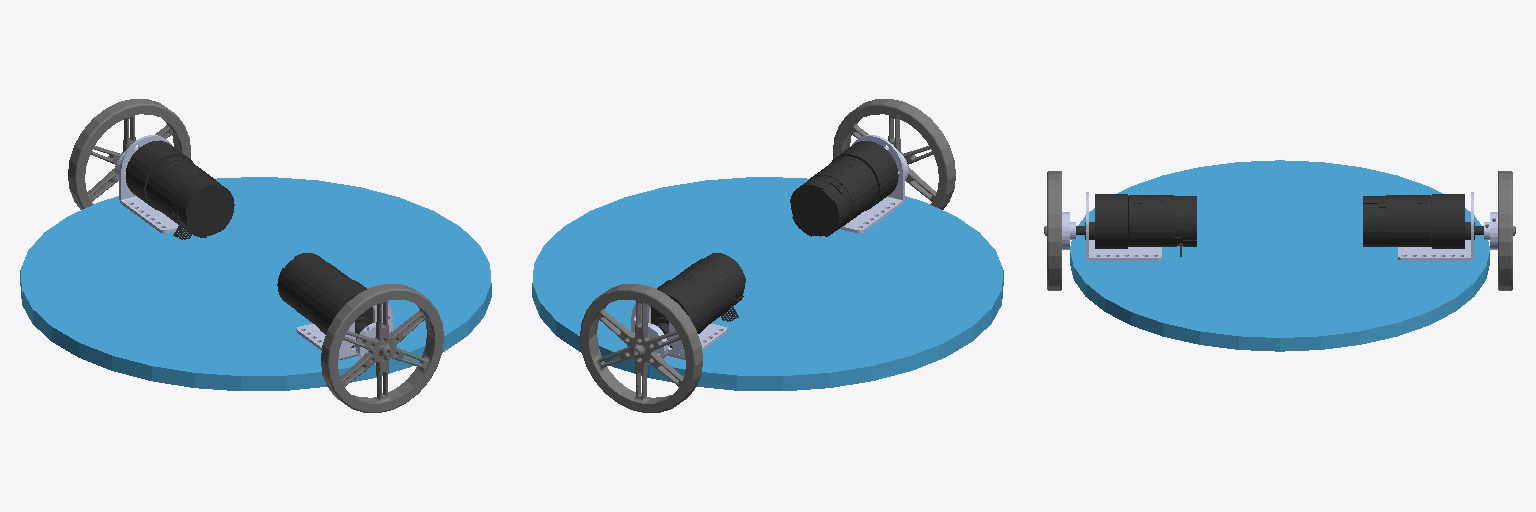
robot.urdf — clownbot:
<?xml version="1.0" ?>
<!-- =================================================================================== -->
<!-- |    This document was autogenerated by xacro from clownbot.xacro                 | -->
<!-- |    EDITING THIS FILE BY HAND IS NOT RECOMMENDED                                 | -->
<!-- =================================================================================== -->
<robot name="clownbot">
  <link name="base_footprint"/>
  <joint name="base_footprint_to_base_link" type="fixed">
    <parent link="base_footprint"/>
    <child link="base_link"/>
    <origin rpy="0 0 0" xyz="0 0 0.04"/>
  </joint>
  <link name="base_link">
    <visual>
      <origin rpy="0 0 0" xyz="0 0 0"/>
      <geometry>
        <mesh filename="package://clownbot_description/meshes/base.dae"/>
      </geometry>
    </visual>
    <collision>
      <origin rpy="0 0 0" xyz="0 0 0"/>
      <geometry>
        <cylinder length="0.06" radius="0.15"/>
      </geometry>
    </collision>
    <inertial>
      <mass value="5"/>
      <inertia ixx="0.029625" ixy="0.0" ixz="0.0" iyy="0.029625" iyz="0.0" izz="0.056249999999999994"/>
    </inertial>
  </link>
  <joint name="base_link_to_right_wheel" type="continuous">
    <parent link="base_link"/>
    <child link="right_wheel"/>
    <origin rpy="0 0 0" xyz="0 -0.15 0"/>
    <axis xyz="0 1 0"/>
  </joint>
  <link name="right_wheel">
    <visual>
      <origin rpy="0 0 1.5707963267948966" xyz="0 0 0"/>
      <geometry>
        <mesh filename="package://clownbot_description/meshes/wheel.dae"/>
      </geometry>
    </visual>
    <collision>
      <origin rpy="1.5707963267948966 0 0" xyz="0 0 0"/>
      <geometry>
        <cylinder length="0.01" radius="0.04"/>
      </geometry>
    </collision>
    <inertial>
      <mass value="0.1"/>
      <inertia ixx="4.0833333333333334e-05" ixy="0.0" ixz="0.0" iyy="4.0833333333333334e-05" iyz="0.0" izz="8e-05"/>
    </inertial>
  </link>
  <gazebo reference="right_wheel">
    <mu1>100000.0</mu1>
    <mu2>100000.0</mu2>
    <kp>1000000.0</kp>
    <kd>1.0</kd>
  </gazebo>
  <joint name="base_link_to_left_wheel" type="continuous">
    <parent link="base_link"/>
    <child link="left_wheel"/>
    <origin rpy="0 0 0" xyz="0 0.15 0"/>
    <axis xyz="0 1 0"/>
  </joint>
  <link name="left_wheel">
    <visual>
      <origin rpy="0 0 -1.5707963267948966" xyz="0 0 0"/>
      <geometry>
        <mesh filename="package://clownbot_description/meshes/wheel.dae"/>
      </geometry>
    </visual>
    <collision>
      <origin rpy="1.5707963267948966 0 0" xyz="0 0 0"/>
      <geometry>
        <cylinder length="0.01" radius="0.04"/>
      </geometry>
    </collision>
    <inertial>
      <mass value="0.1"/>
      <inertia ixx="4.0833333333333334e-05" ixy="0.0" ixz="0.0" iyy="4.0833333333333334e-05" iyz="0.0" izz="8e-05"/>
    </inertial>
  </link>
  <gazebo reference="left_wheel">
    <mu1>100000.0</mu1>
    <mu2>100000.0</mu2>
    <kp>1000000.0</kp>
    <kd>1.0</kd>
  </gazebo>
  <joint name="base_link_to_front_caster" type="fixed">
    <parent link="base_link"/>
    <child link="front_caster"/>
    <origin rpy="0 0 0" xyz="0.1 0 -0.03365"/>
  </joint>
  <link name="front_caster">
    <visual>
      <origin rpy="0 3.141592653589793 1.5707963267948966" xyz="0 0 0.00535"/>
      <geometry>
        <mesh filename="package://clownbot_description/meshes/caster.dae"/>
      </geometry>
    </visual>
    <collision>
      <geometry>
        <sphere radius="0.00635"/>
      </geometry>
    </collision>
    <inertial>
      <mass value="0.01"/>
      <inertia ixx="1.6128999999999998e-07" ixy="0.0" ixz="0.0" iyy="1.6128999999999998e-07" iyz="0.0" izz="1.6128999999999998e-07"/>
    </inertial>
  </link>
  <joint name="base_link_to_back_caster" type="fixed">
    <parent link="base_link"/>
    <child link="back_caster"/>
    <origin rpy="0 0 0" xyz="-0.1 0 -0.03365"/>
  </joint>
  <link name="back_caster">
    <visual>
      <origin rpy="0 3.141592653589793 1.5707963267948966" xyz="0 0 0.00535"/>
      <geometry>
        <mesh filename="package://clownbot_description/meshes/caster.dae"/>
      </geometry>
    </visual>
    <collision>
      <geometry>
        <sphere radius="0.00635"/>
      </geometry>
    </collision>
    <inertial>
      <mass value="0.01"/>
      <inertia ixx="1.6128999999999998e-07" ixy="0.0" ixz="0.0" iyy="1.6128999999999998e-07" iyz="0.0" izz="1.6128999999999998e-07"/>
    </inertial>
  </link>
  <gazebo>
    <plugin filename="libgazebo_ros_diff_drive.so" name="differential_drive_controller">
      <updateRate>20</updateRate>
      <leftJoint>base_link_to_left_wheel</leftJoint>
      <rightJoint>base_link_to_right_wheel</rightJoint>
      <wheelSeparation>0.3</wheelSeparation>
      <wheelDiameter>0.08</wheelDiameter>
      <wheelAcceleration>1.0</wheelAcceleration>
      <wheelTorque>20</wheelTorque>
      <commandTopic>/cmd_vel</commandTopic>
      <odometryTopic>/odom</odometryTopic>
      <odometryFrame>odom</odometryFrame>
      <robotBaseFrame>base_footprint</robotBaseFrame>
      <odometrySource>world</odometrySource>
      <publishWheelTF>false</publishWheelTF>
      <publishOdomTF>true</publishOdomTF>
      <publishTf>1</publishTf>
      <publishWheelJointState>false</publishWheelJointState>
      <legacyMode>false</legacyMode>
      <rosDebugLevel>warn</rosDebugLevel>
    </plugin>
  </gazebo>
</robot>

--- Render facts (derived) ---
Views: 3 orthographic renders of the robot side by side, from view 1: azimuth 30°, elevation 25°; view 2: azimuth 150°, elevation 25°; view 3: azimuth 270°, elevation 25°.
Robot: clownbot — 6 links, 5 joints (2 continuous, 3 fixed); root link base_footprint; default pose: all joints at 0.
Links seen in each view (by area): view 1: base_link, right_wheel, left_wheel; view 2: base_link, left_wheel, right_wheel; view 3: base_link, right_wheel, left_wheel.
Boxes of the visible links, x1=… form: base_link: x1=20, y1=135, x2=491, y2=390; right_wheel: x1=321, y1=284, x2=443, y2=412; left_wheel: x1=68, y1=99, x2=190, y2=209; base_link: x1=532, y1=135, x2=1003, y2=390; left_wheel: x1=580, y1=284, x2=702, y2=412; right_wheel: x1=833, y1=99, x2=955, y2=209; base_link: x1=1062, y1=160, x2=1497, y2=351; right_wheel: x1=1044, y1=171, x2=1061, y2=290; left_wheel: x1=1498, y1=171, x2=1515, y2=290.
Size in the robot's own frame: 0.28 by 0.3135 by 0.0794 metres.
Meshes: 3 distinct files referenced, 5 mesh visuals loaded (3 Collada DAE).